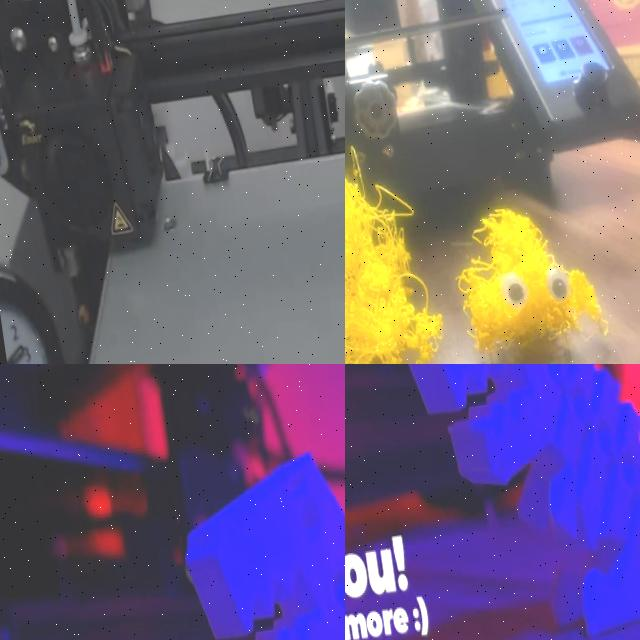spaghetti: (456, 209, 609, 362), (345, 154, 446, 364)
